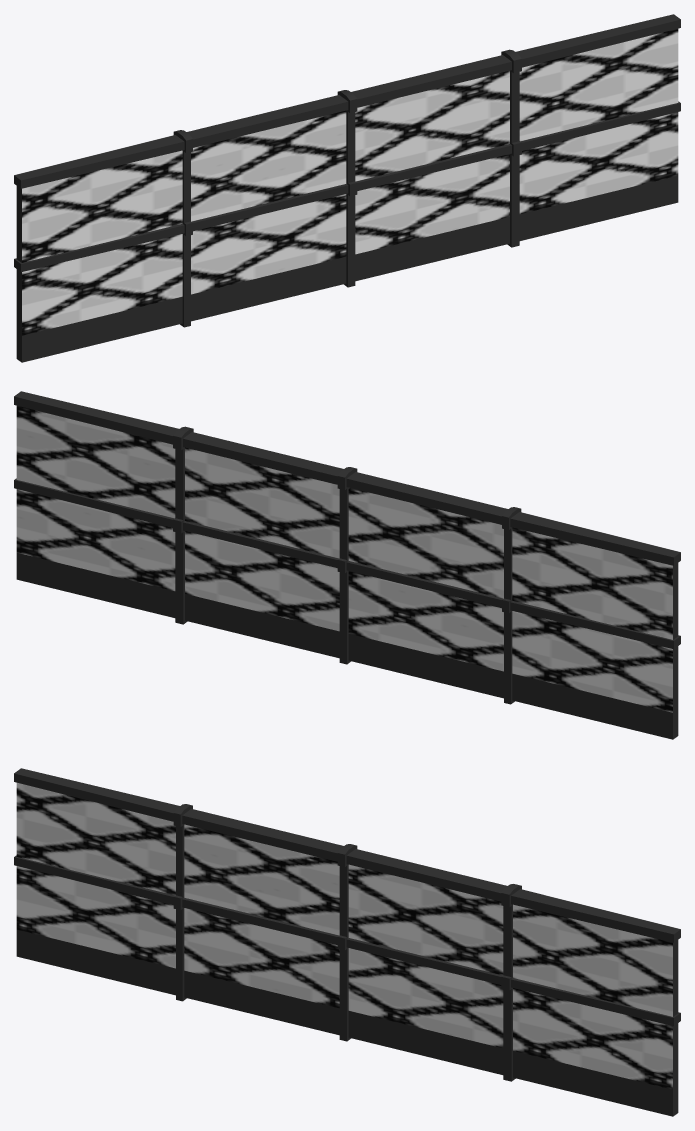
File: barrr.fbx
3 renders of one model, top to bottom at view 1: azimuth 30°, elevation 25°; view 2: azimuth 150°, elevation 25°; view 3: azimuth 330°, elevation 25°, orthographic.
Visible parts, largest first — view 1: pCube12; view 2: pCube12; view 3: pCube12.
Boxes of the visible parts, x1=… form: pCube12: x1=14, y1=14, x2=680, y2=362; pCube12: x1=14, y1=391, x2=680, y2=739; pCube12: x1=14, y1=768, x2=680, y2=1116.
Bounding box in the file's own units: 3038 × 838 × 98.38.
2 materials, 1 textured.
